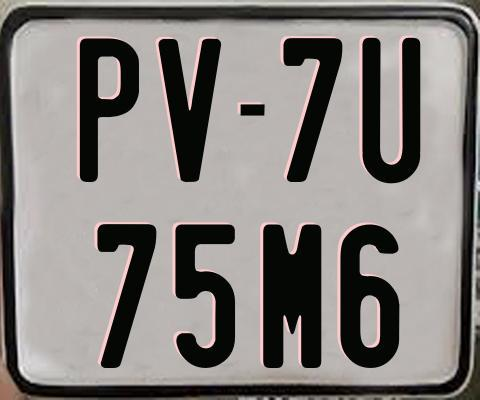5: (175, 224, 240, 374)
6: (338, 222, 400, 368)
7: (97, 221, 157, 369), (282, 38, 342, 184)
M: (261, 222, 320, 370)
P: (78, 35, 138, 179)
U: (360, 35, 418, 182)
V: (155, 36, 223, 184)
